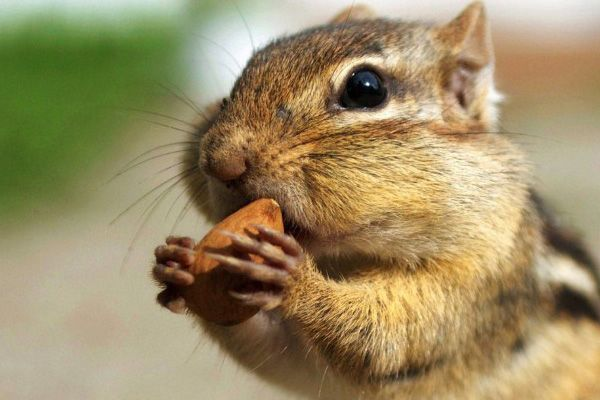Ardilla: (124, 1, 563, 376)
